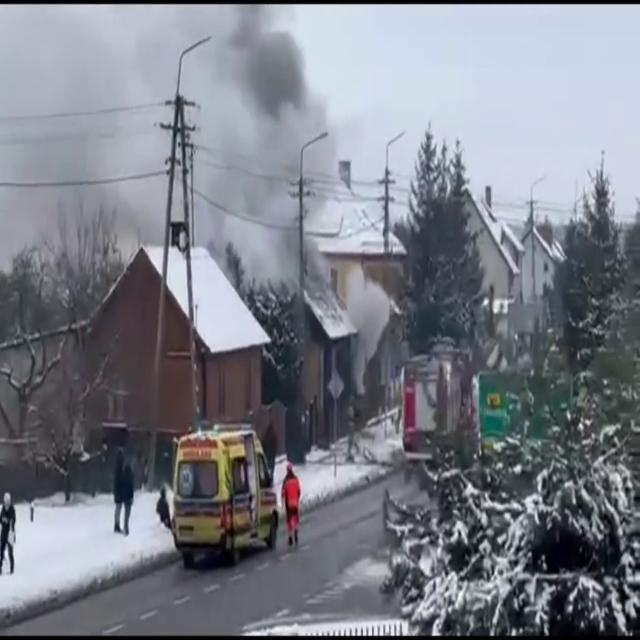Smoke: (1, 3, 353, 334)
